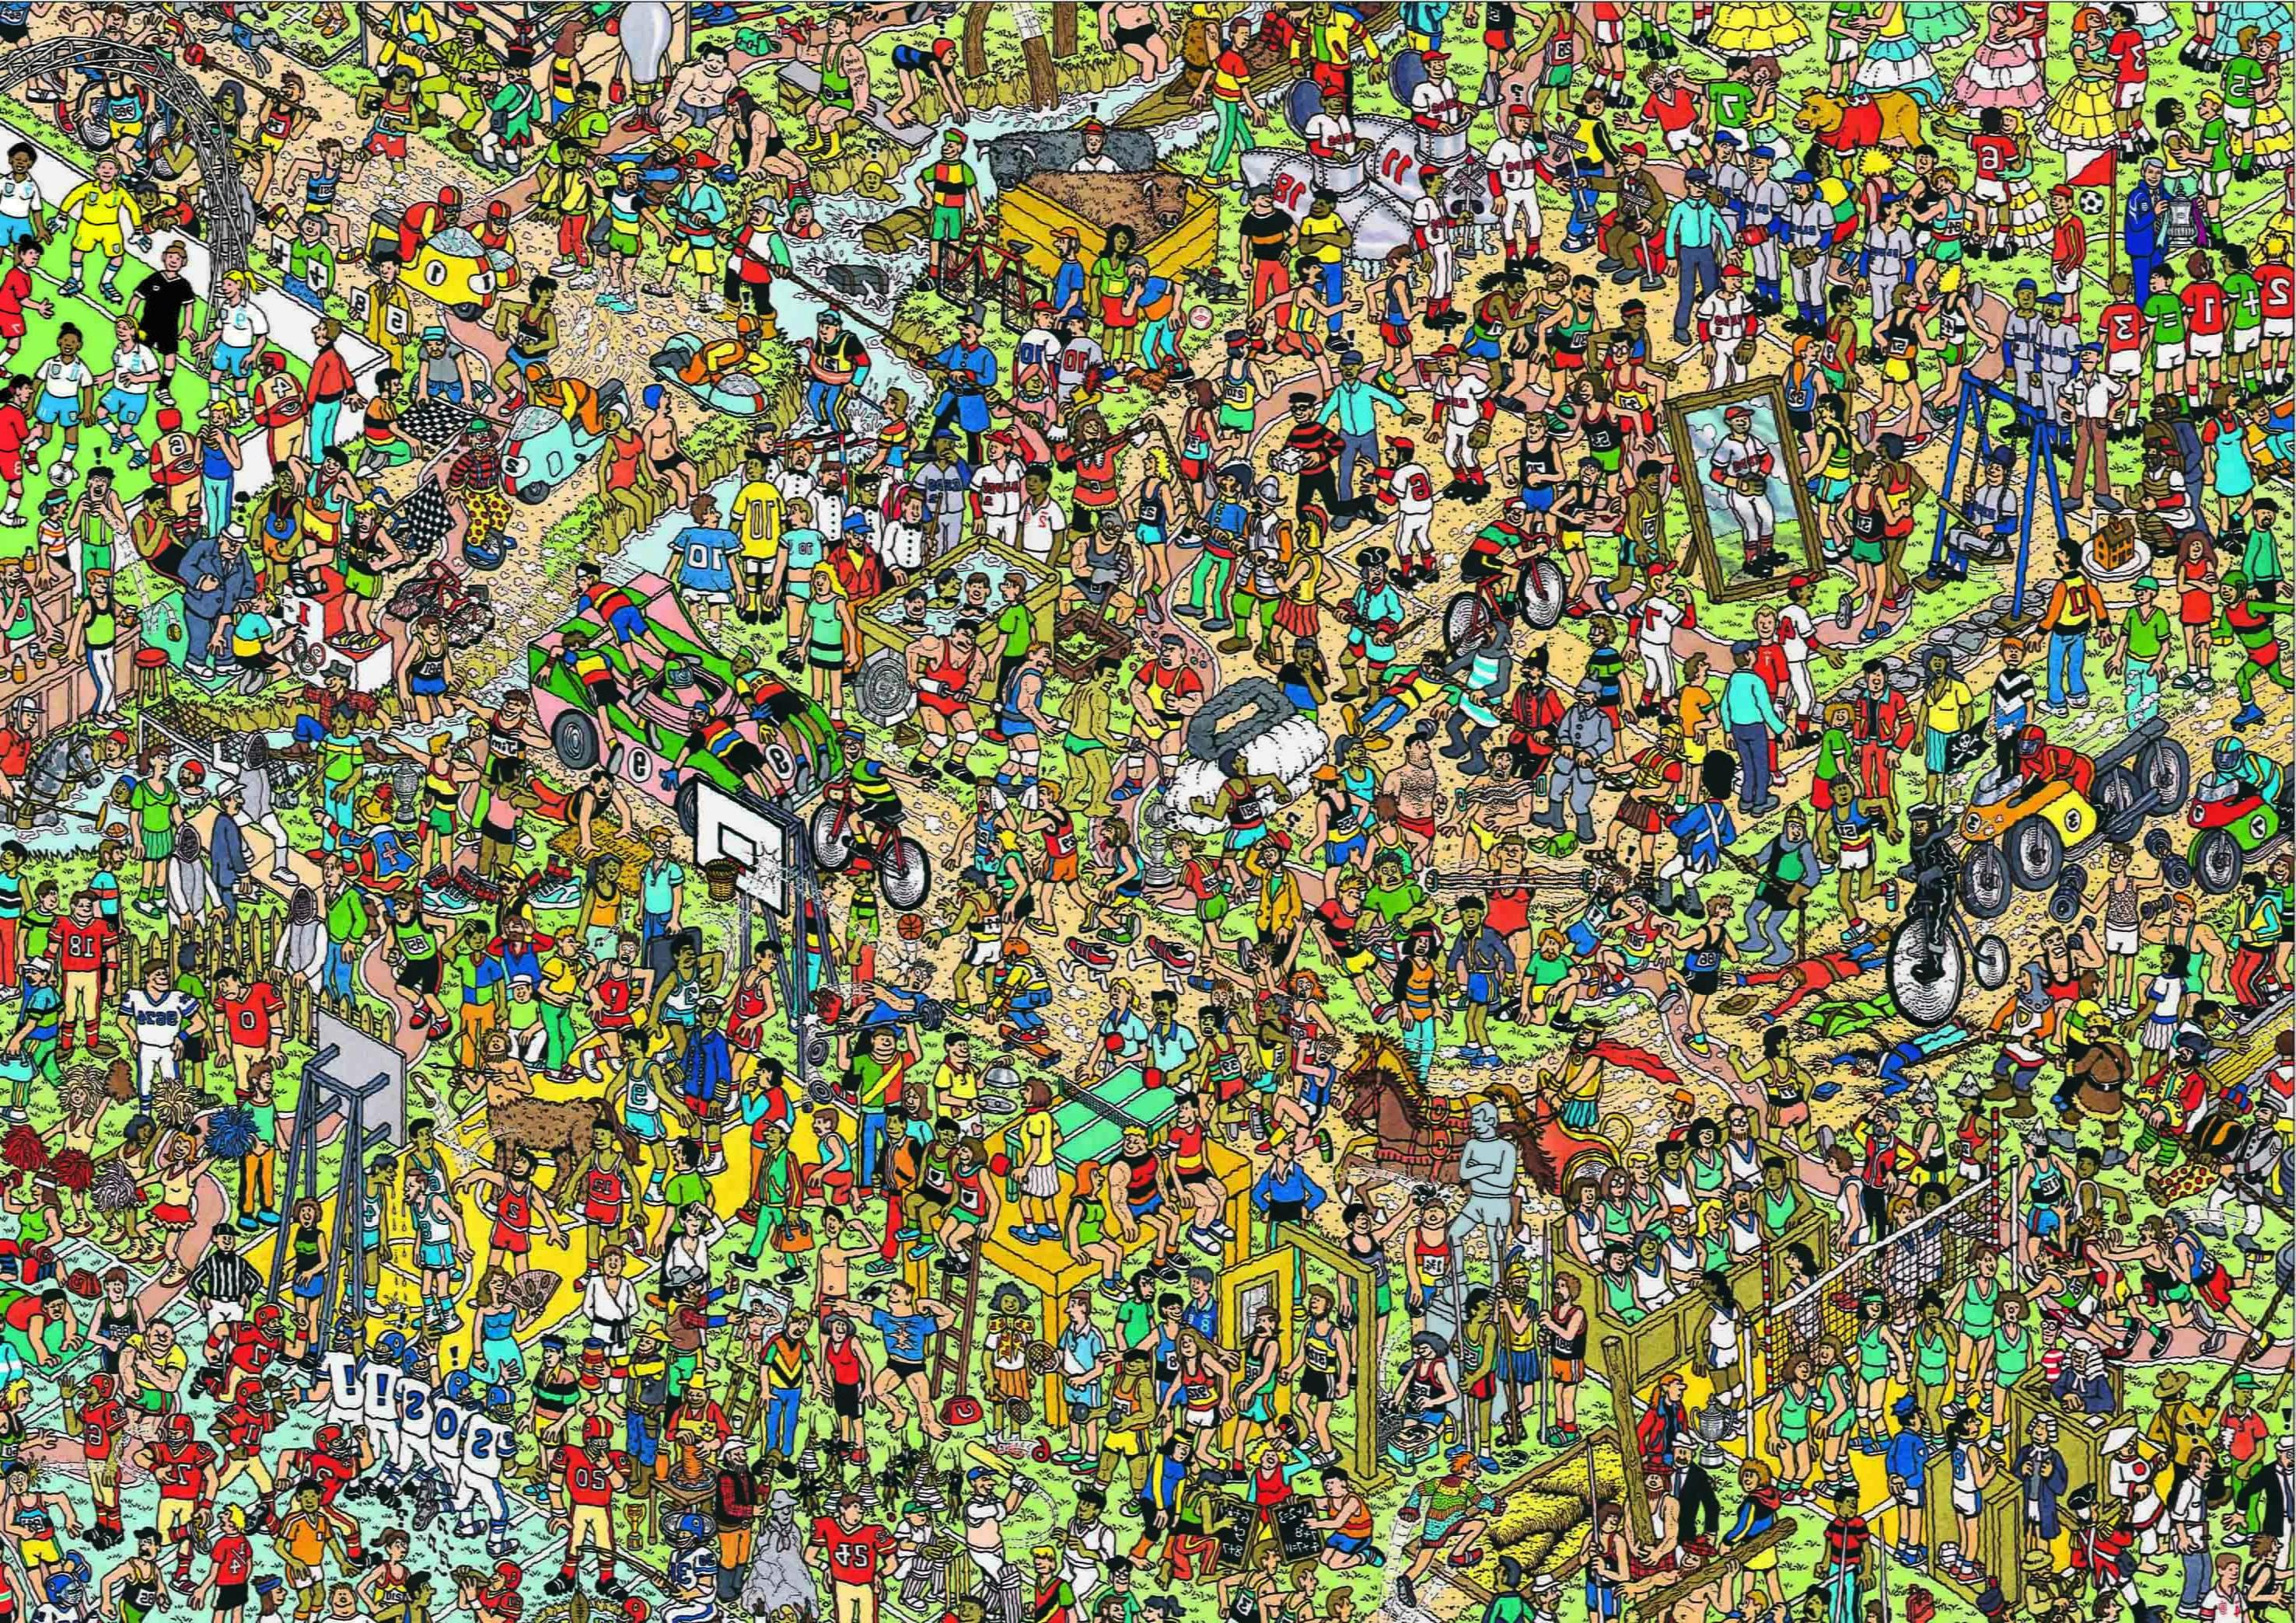waldos: (2032, 1310, 2071, 1382)
